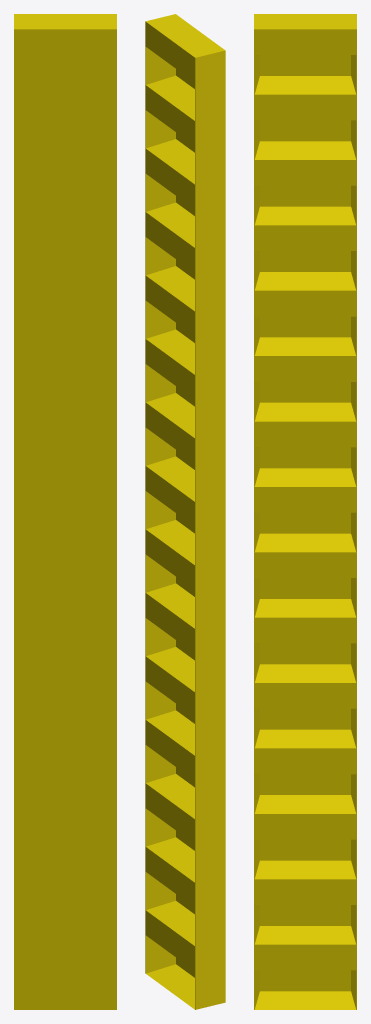
File: Gear Teeth.fbx
3 renders of one model, left to right at view 1: azimuth 90°, elevation 25°; view 2: azimuth 210°, elevation 25°; view 3: azimuth 270°, elevation 25°, orthographic. The views are drawn at different scales.
Parts seen in each view (by area): view 1: GearTeeth; view 2: GearTeeth; view 3: GearTeeth.
Part boxes in pixels (x1,y1,x2,y2): GearTeeth: (14, 14, 116, 1009); GearTeeth: (145, 14, 225, 1009); GearTeeth: (254, 14, 356, 1009).
Bounding box in the file's own units: 8.24 × 248 × 23.49.
